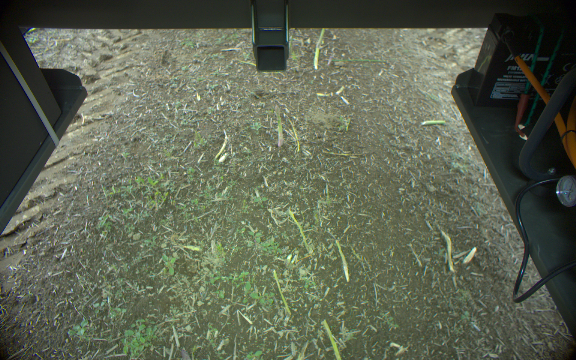aspa: (268, 267, 293, 316), (288, 209, 314, 256), (322, 317, 344, 360), (310, 28, 329, 71), (333, 238, 350, 284), (438, 231, 457, 272), (327, 55, 390, 66), (285, 116, 303, 153), (273, 103, 286, 149), (213, 129, 230, 164), (463, 241, 481, 265), (421, 115, 446, 128)
